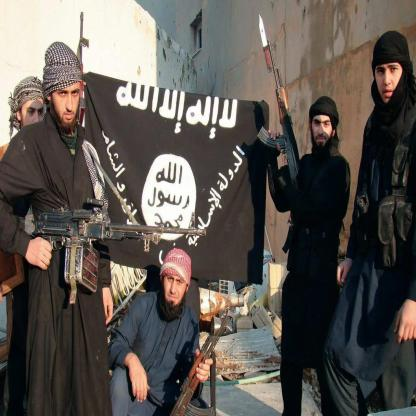rifle: (19, 198, 212, 304), (254, 15, 299, 182), (168, 308, 235, 416)
